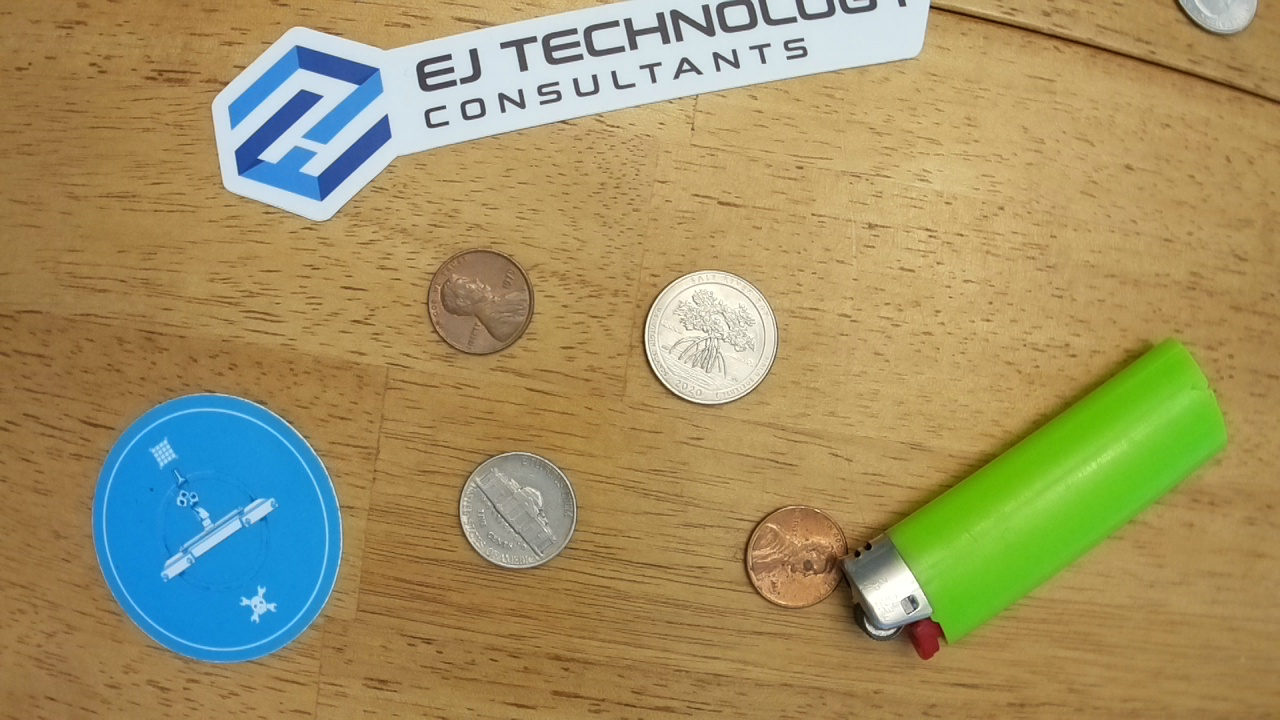nickel: (456, 448, 578, 570)
penny: (422, 246, 534, 356), (744, 500, 846, 612)
quarter: (641, 264, 779, 412)
